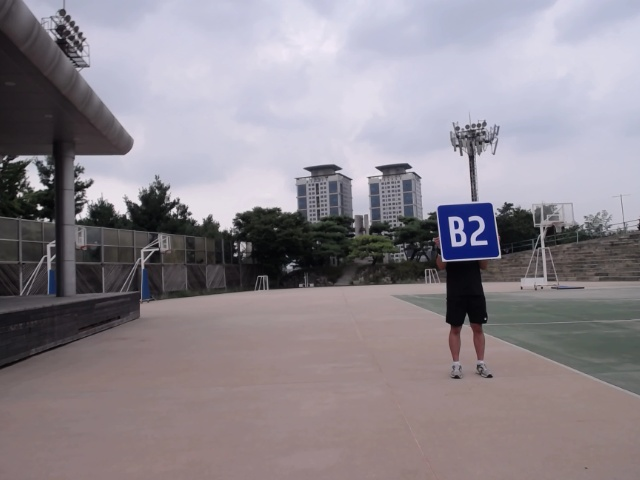delivery_b2: (435, 201, 502, 263)
